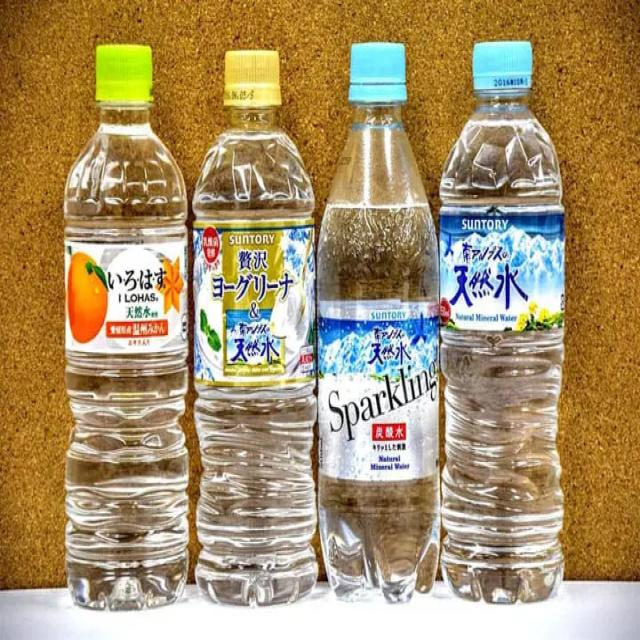plastic: (60, 35, 192, 607), (440, 41, 569, 604), (316, 43, 442, 601), (193, 46, 318, 606)
